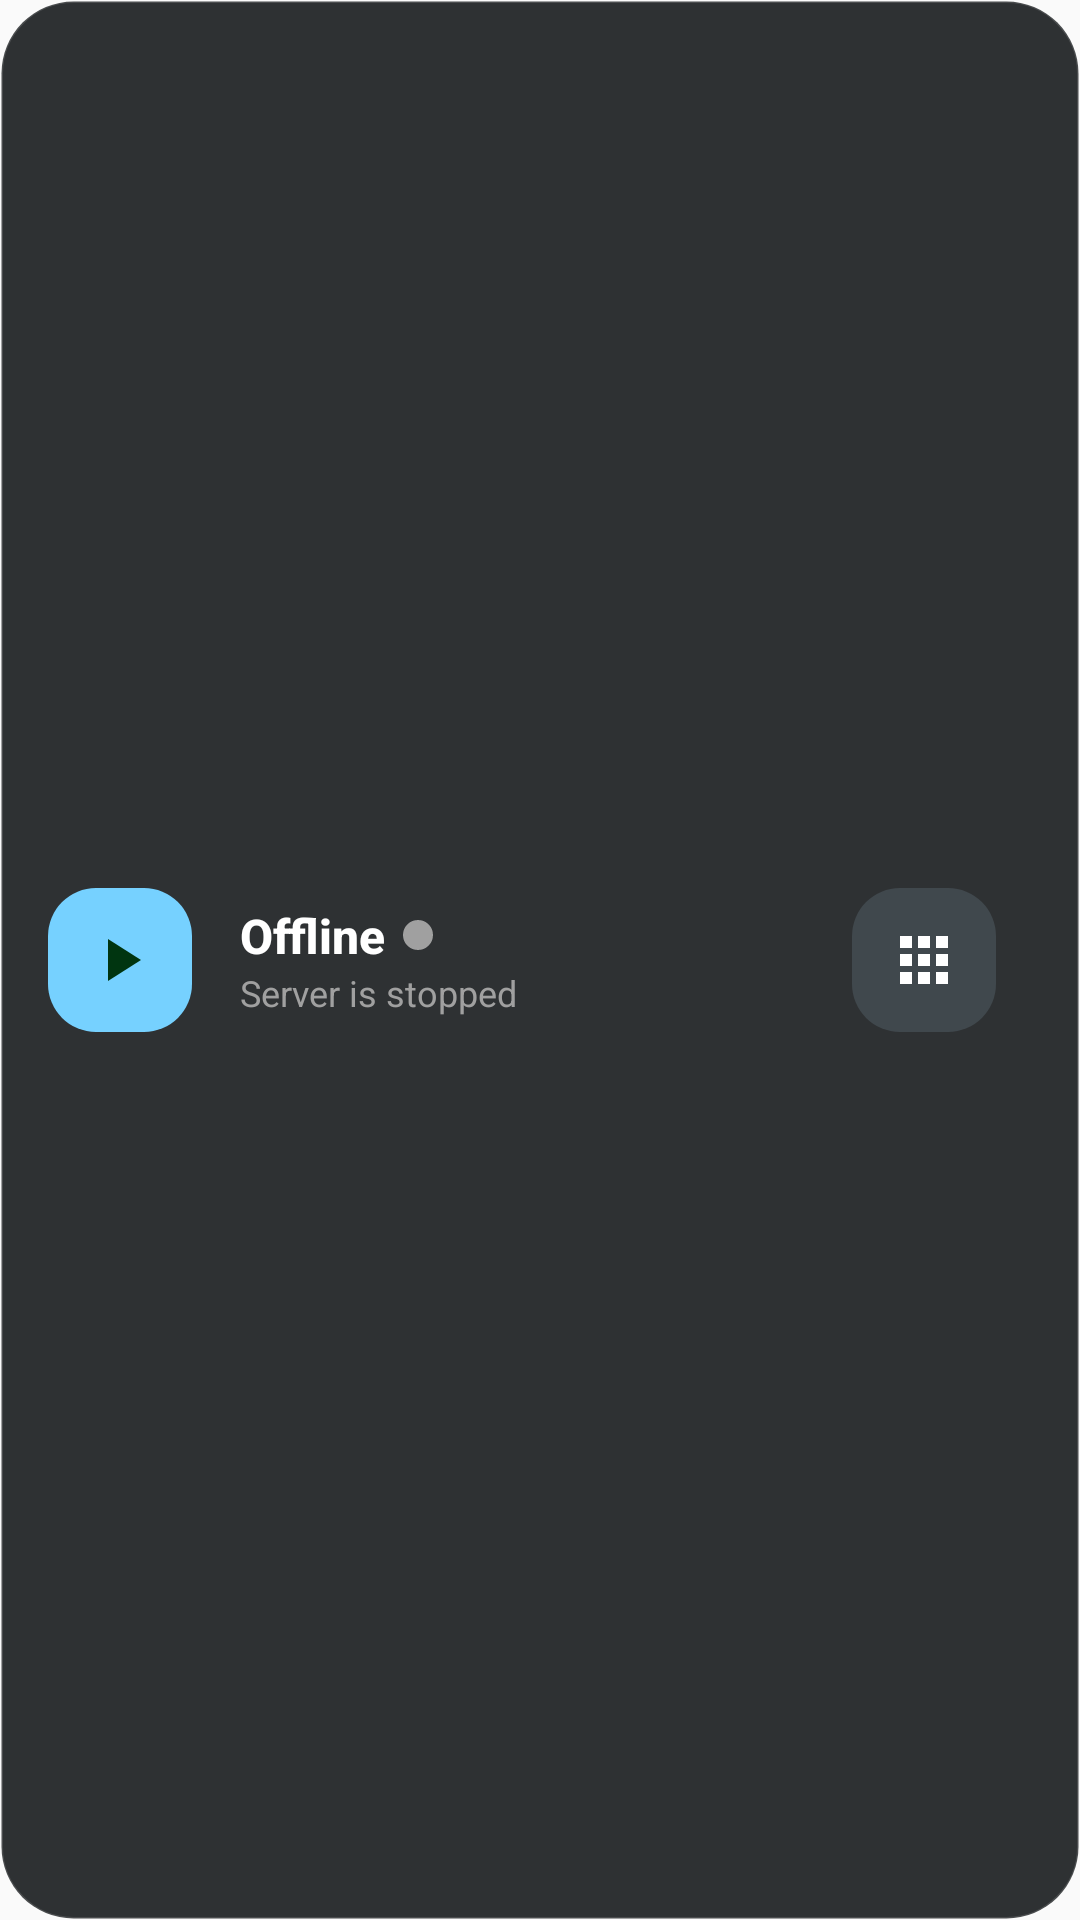

Where to tap for icons on this 1080×1920 app screen, as (x,y):
Open App: (924,960)
play: (124,960)
